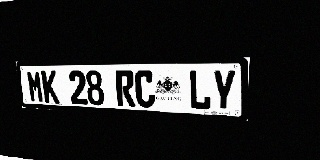2: (68, 70, 88, 105)
8: (85, 70, 105, 105)
C: (134, 70, 155, 108)
K: (41, 70, 60, 103)
L: (189, 70, 211, 110)
M: (26, 70, 44, 103)
R: (115, 70, 136, 107)
Y: (212, 70, 236, 111)
